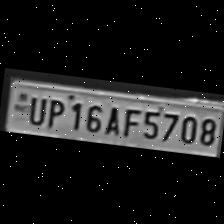0: (175, 109, 199, 143)
1: (62, 96, 84, 130)
5: (137, 104, 161, 139)
6: (80, 98, 105, 132)
7: (156, 106, 180, 142)
8: (194, 112, 218, 146)
A: (101, 101, 124, 135)
F: (118, 103, 140, 137)
P: (42, 94, 66, 128)
U: (23, 91, 47, 124)
